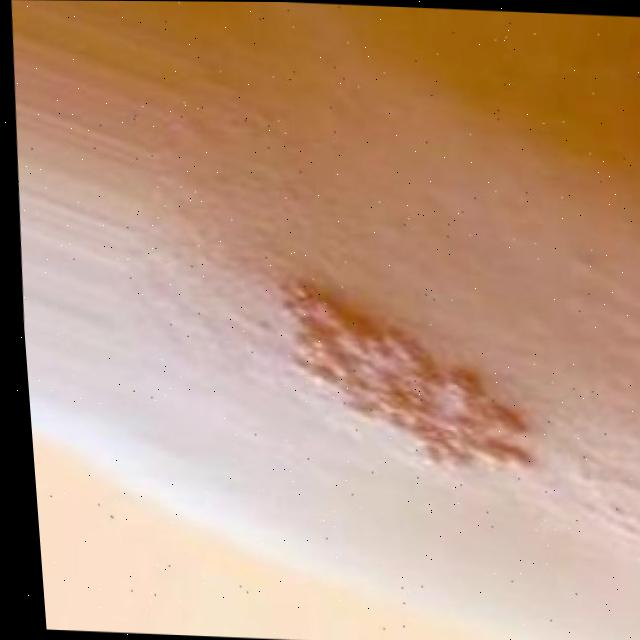Shingles: (272, 286, 530, 472)
